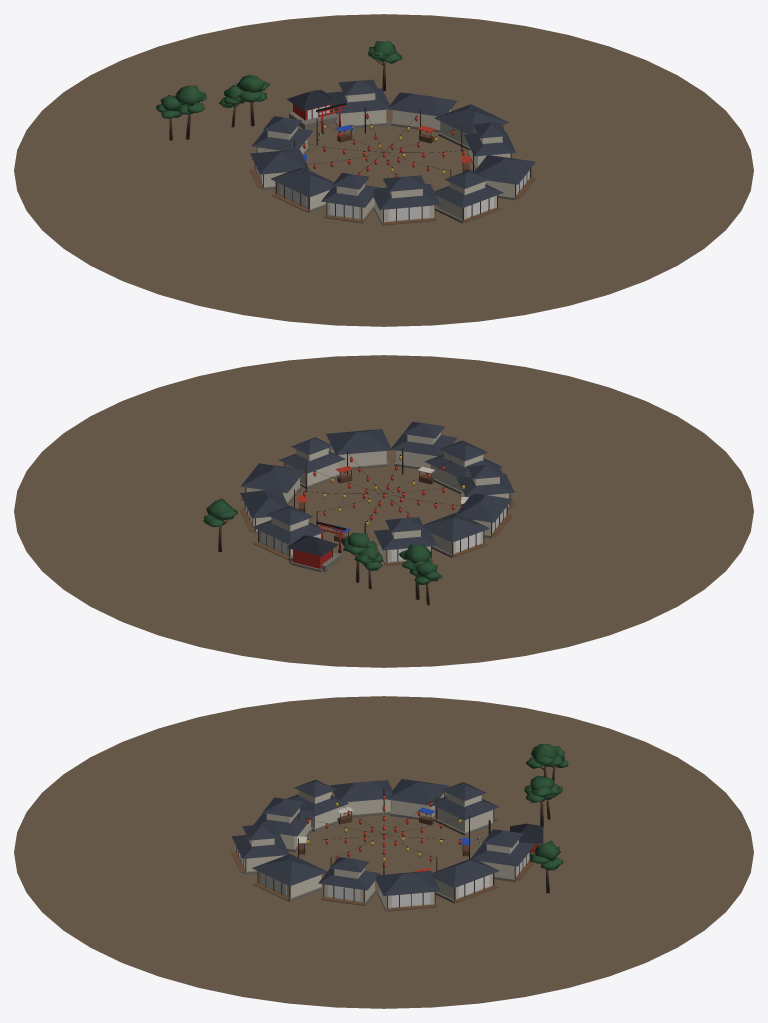
Rendered from village.glb.
The picture shows the model from 3 angles, top to bottom: view 1: azimuth 30°, elevation 25°; view 2: azimuth 150°, elevation 25°; view 3: azimuth 270°, elevation 25°; orthographic projection.
Visible parts, largest first — view 1: village_0_0, village_-1_0, village_-1_-1, village_0_-1; view 2: village_0_0, village_-1_0, village_0_-1, village_-1_-1; view 3: village_0_0, village_-1_0, village_0_-1, village_-1_-1.
Boxes of the visible parts, <box> form: village_0_0: <box>14,14,753,326</box>; village_-1_0: <box>156,74,457,193</box>; village_-1_-1: <box>270,159,440,225</box>; village_0_-1: <box>397,122,536,223</box>; village_0_0: <box>14,355,753,667</box>; village_-1_0: <box>287,469,491,605</box>; village_0_-1: <box>279,421,457,490</box>; village_-1_-1: <box>397,440,515,538</box>; village_0_0: <box>14,696,753,1008</box>; village_-1_0: <box>382,744,568,845</box>; village_0_-1: <box>231,823,380,906</box>; village_-1_-1: <box>253,779,392,854</box>.
Size of the model in its own units: 140 by 11.12 by 140.
